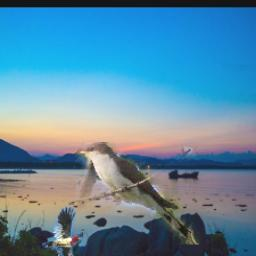Cuckoo: (76, 142, 200, 245)
Woodpecker: (43, 206, 83, 256)
